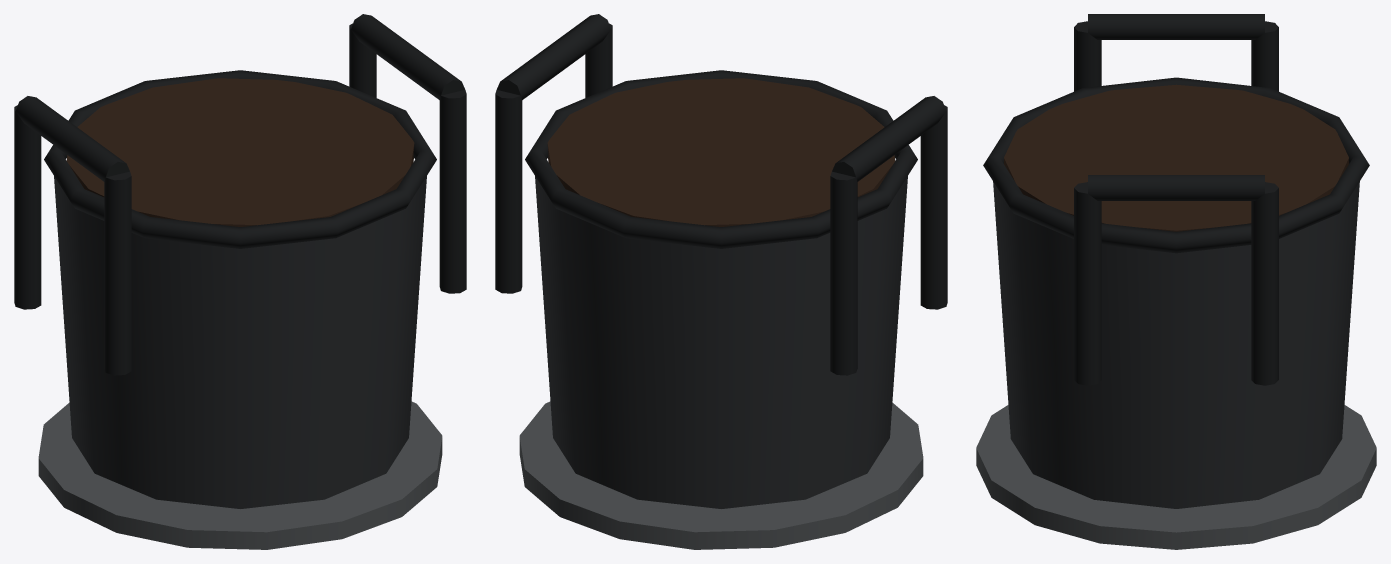
File: pot-fabric-grow-bag.glb
The picture shows the model from 3 angles, left to right: view 1: azimuth 30°, elevation 25°; view 2: azimuth 150°, elevation 25°; view 3: azimuth 270°, elevation 25°; orthographic projection.
Visible parts, largest first — view 1: fabricBag, soil, wideSaucer, stitchedRim, handleFront (×2), handleGrip (×2), handleRear (×2); view 2: fabricBag, soil, wideSaucer, stitchedRim, handleRear (×2), handleGrip (×2), handleFront (×2); view 3: fabricBag, soil, wideSaucer, stitchedRim, handleGrip (×2), handleRear (×2), handleFront (×2).
Part boxes in pixels (x1,y1,x2,y2): fabricBag: (54, 176, 426, 508); soil: (66, 78, 414, 226); wideSaucer: (38, 401, 442, 549); stitchedRim: (44, 70, 436, 248); handleFront (×2): (104, 90, 466, 375); handleGrip (×2): (15, 14, 464, 181); handleRear (×2): (14, 23, 376, 309); fabricBag: (535, 176, 907, 508); soil: (547, 78, 895, 226); wideSaucer: (519, 401, 923, 549); stitchedRim: (525, 70, 917, 248); handleRear (×2): (495, 90, 857, 375); handleGrip (×2): (497, 14, 946, 181); handleFront (×2): (585, 23, 947, 309); fabricBag: (993, 181, 1359, 508); soil: (1004, 84, 1348, 231); wideSaucer: (976, 405, 1376, 549); stitchedRim: (983, 77, 1369, 253); handleGrip (×2): (1088, 14, 1264, 200); handleRear (×2): (1251, 21, 1278, 385); handleFront (×2): (1074, 21, 1101, 385).
Size of the model in its own units: 0.53 by 0.5305 by 0.52.
